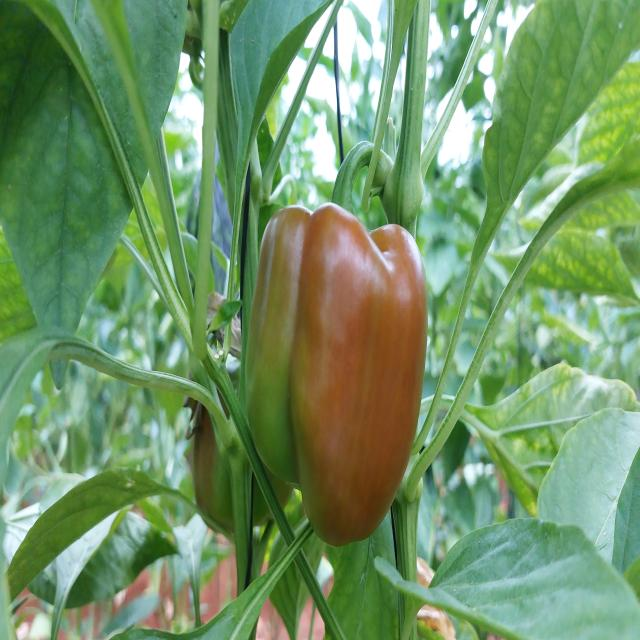BrownishRed--Can-be-Harvested: (256, 209, 424, 526)
